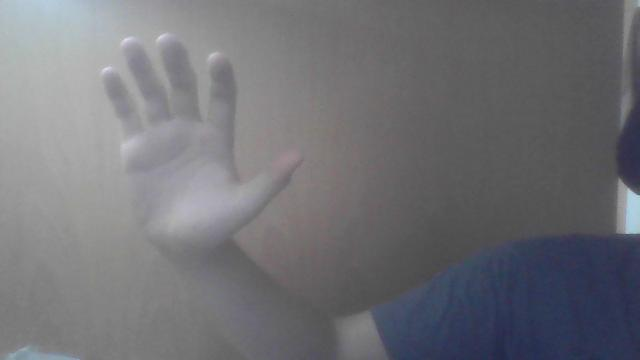Stop: (100, 40, 302, 261)
